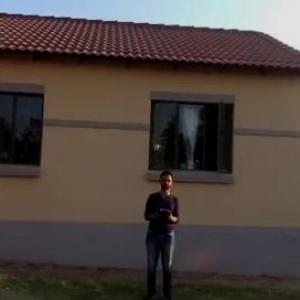follow: (136, 166, 184, 299)
